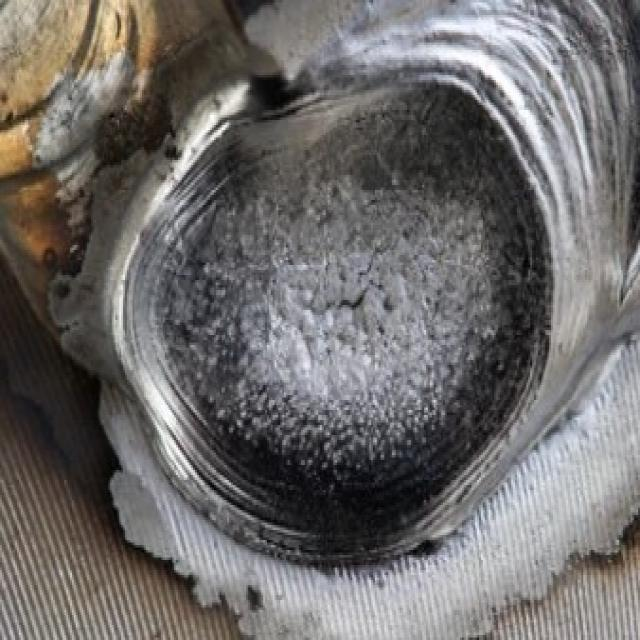Bad Weld: (98, 62, 570, 582)
Defect: (300, 272, 384, 322)
